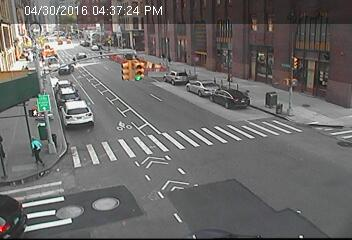neg: (62, 42, 95, 85), (255, 156, 284, 194), (120, 49, 146, 83), (255, 82, 280, 115), (80, 112, 104, 144), (308, 110, 331, 140), (31, 79, 51, 106), (113, 172, 133, 198), (73, 186, 92, 212), (139, 111, 157, 135), (205, 159, 223, 183), (190, 70, 206, 91)
pos: (27, 134, 49, 164)
